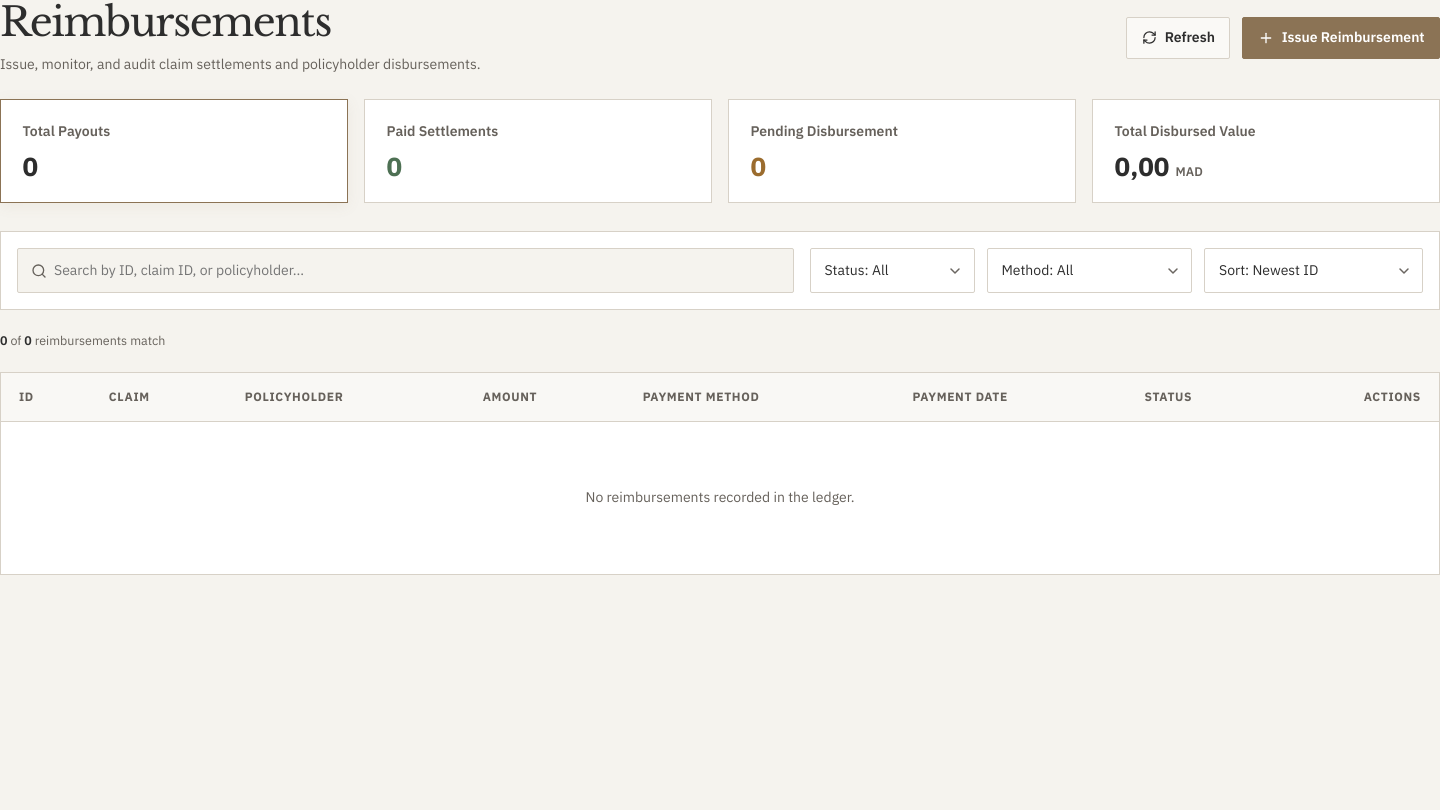
an agent issues reimbursement for a claim from the eligible list
The image size is (1440, 810).
Click the button "Issue Reimbursement": click(1341, 38) [1242,17,1439,59]
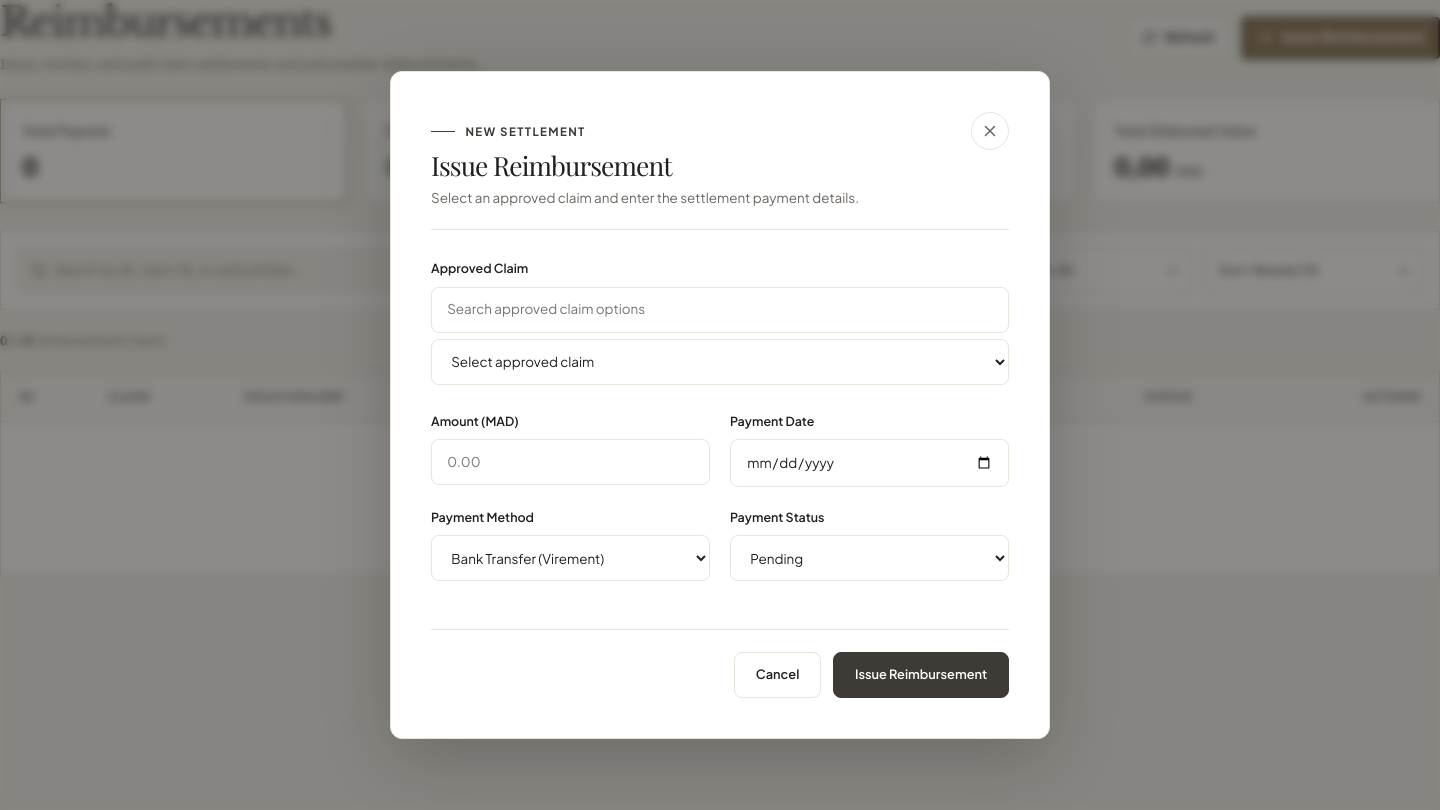
Select "Claim #7 — Customer (Est. 500,00 MAD)" in the dropdown labelled "Approved Claim": (720, 362) [431,339,1009,385]
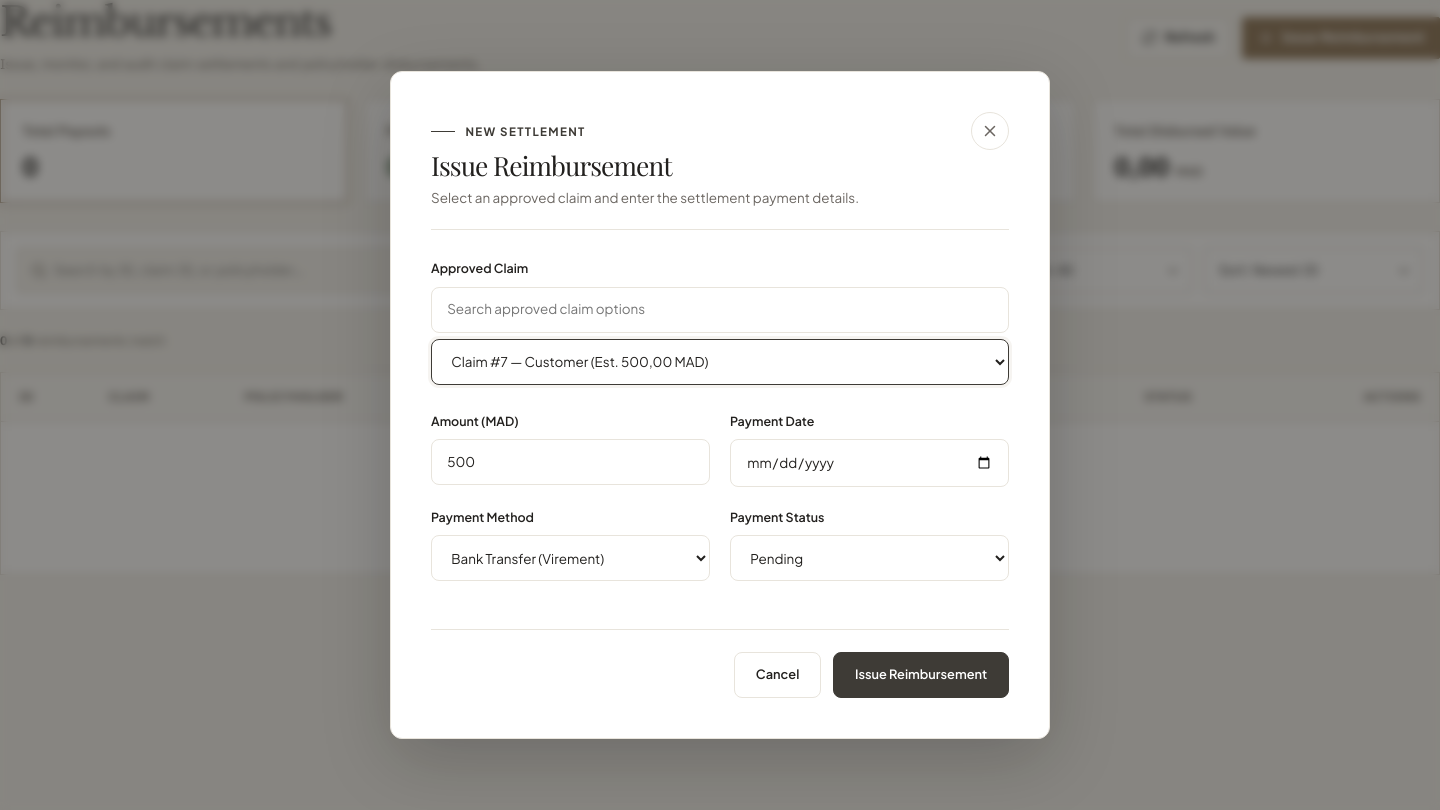
Replace the text in the number field labelled "Amount (MAD)" with "250": (570, 462) [431,439,710,485]
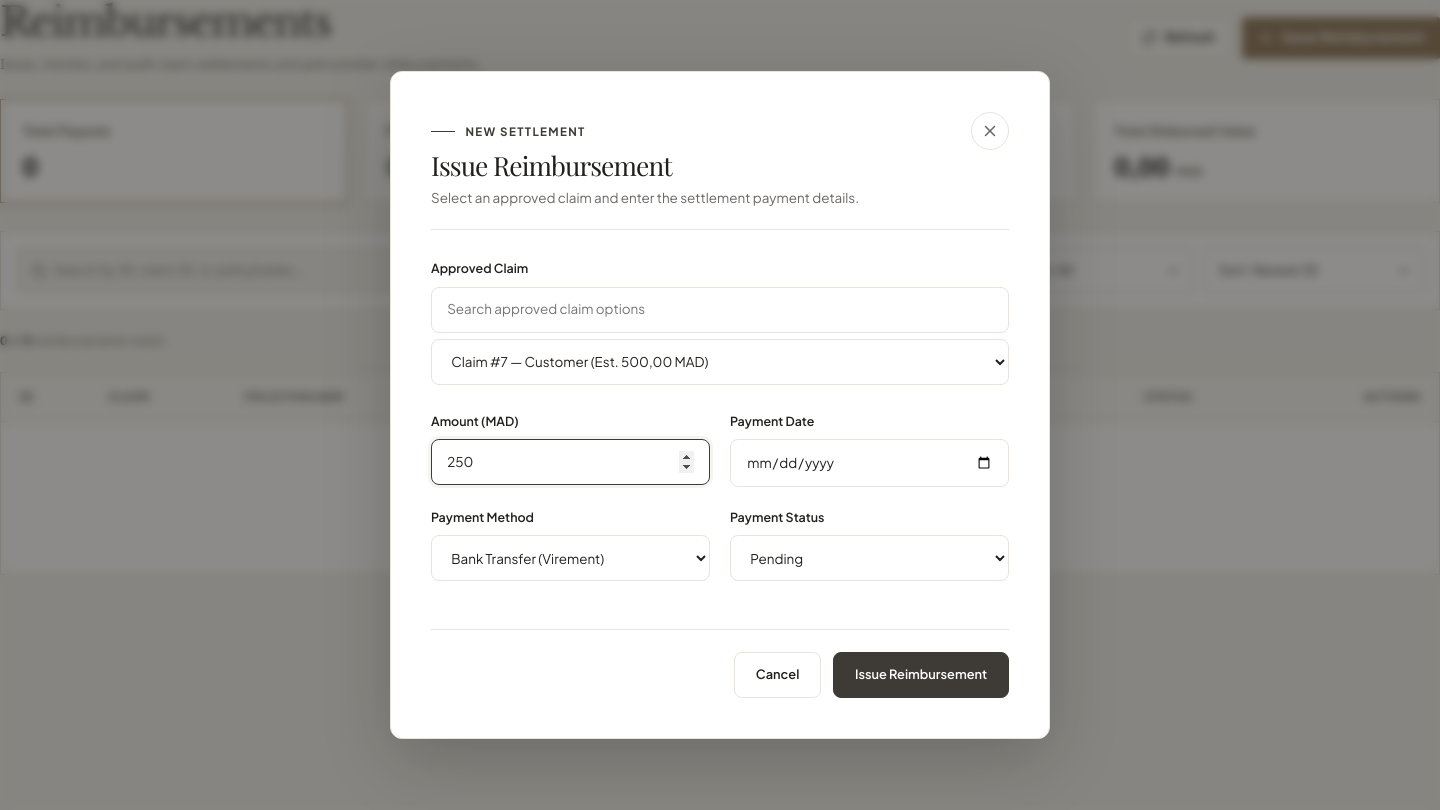
Select "Cash (Espèces)" in the dropdown labelled "Payment Method": (570, 558) [431,535,710,581]
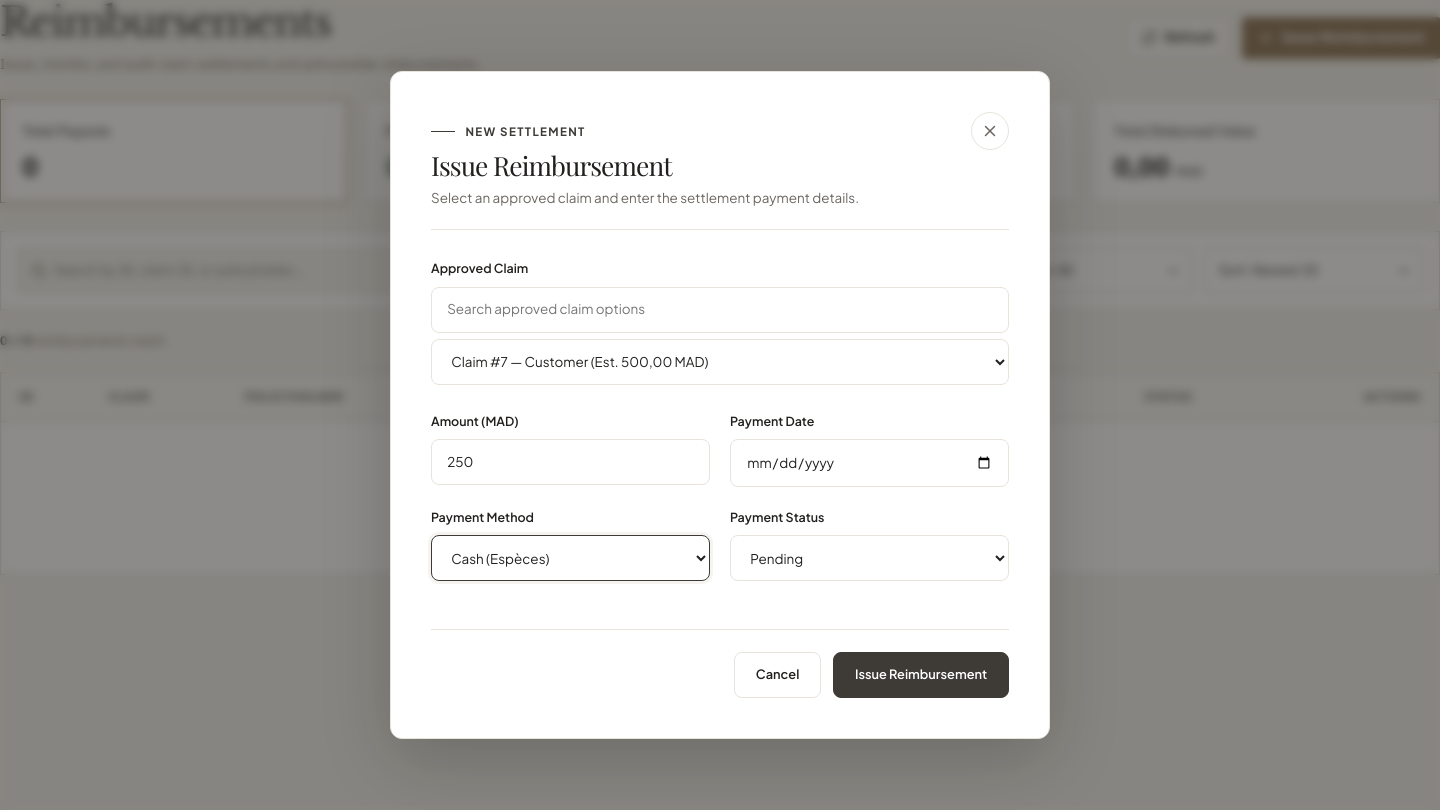
Click the button "Issue Reimbursement": click(921, 675) [833,652,1009,698]
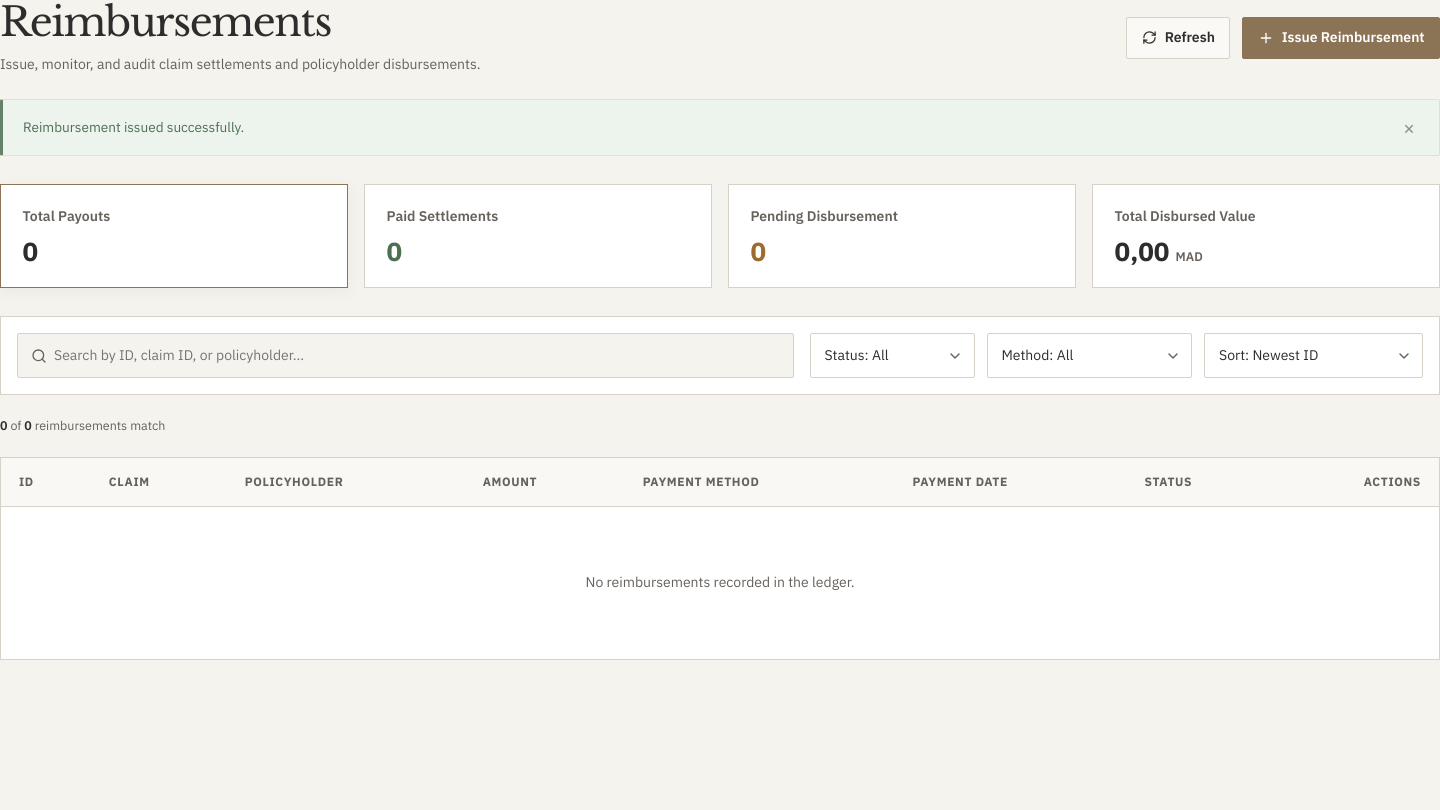
expect the text "Reimbursement issued successfully." is shown: met, box [23,116,244,139]
